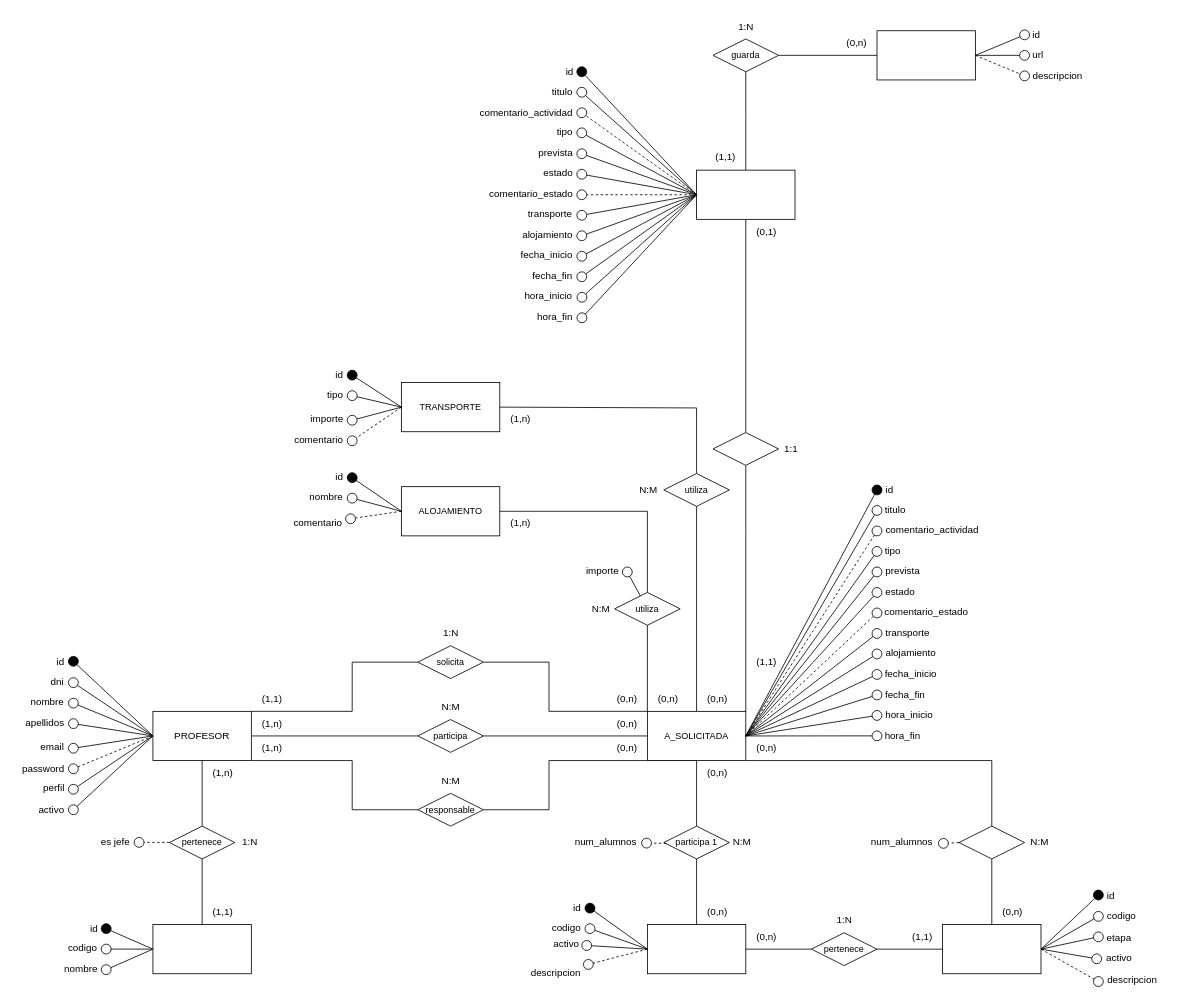
Image size: 1178x1007. Some labels were removed from this diagram. The centre of each missing label's shape, as x and y in pixels:
A_APROBADA: (745,194)
copia: (745,448)
CURSO: (991,949)
DEPARTAMENTO: (201,949)
GRUPO: (696,949)
IMAGEN: (925,55)
participa 2: (991,842)
